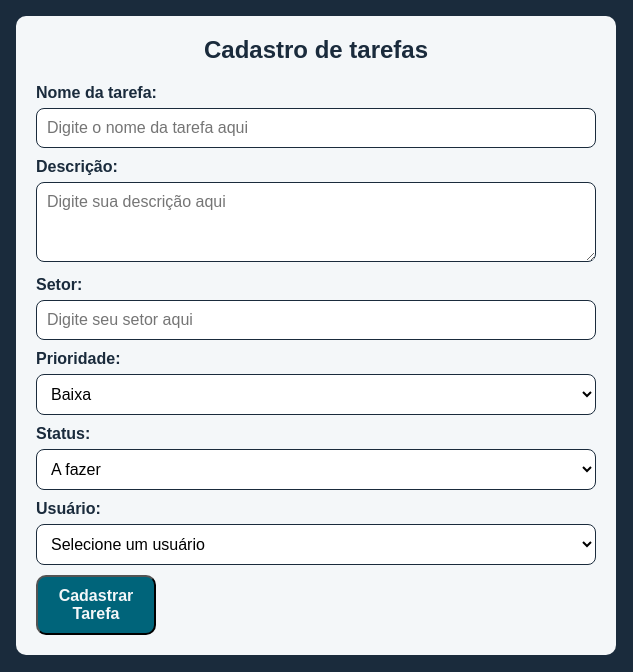
it: Teste do componente CadTarefa › Campo Nome - Validações Específicas › Deve reduzir letras repetidas em sequencia para no máximo 2x (handleNomeChange)
// CORREÇÃO: Envolver fireEvent.change em act para esperar o setValue
Type "tarefaaa tteessstttee" into the field labelled "Nome da tarefa:" at coordinates (316, 128), box [36,108,596,148]
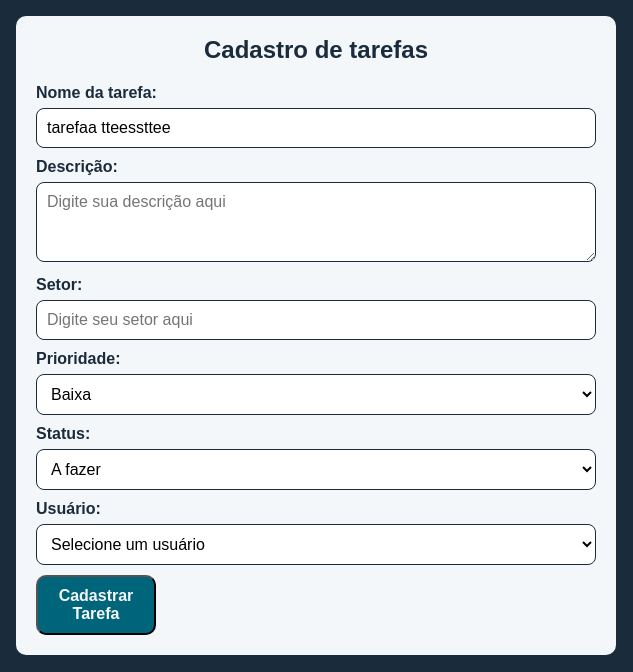
Expected: the field labelled "Nome da tarefa:" holds "tarefaa tteessttee", [36,108,596,148]
